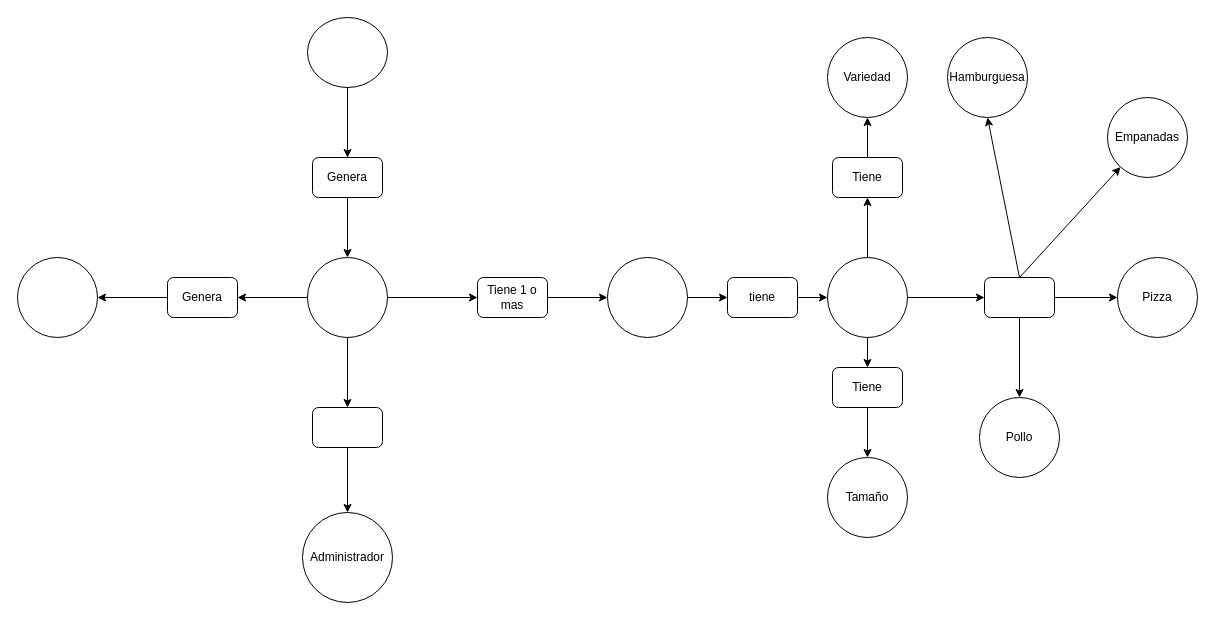
Some shapes in this 1215 by 620 pixel diagram are drawn without their labels. The centre of each missing label's shape, as x and y in pixels:
Categoria: (867,297)
Cliente: (347,52)
Completado por: (347,427)
Factura: (57,297)
Pedido: (347,297)
Producto: (647,297)
Puede ser: (1019,297)
